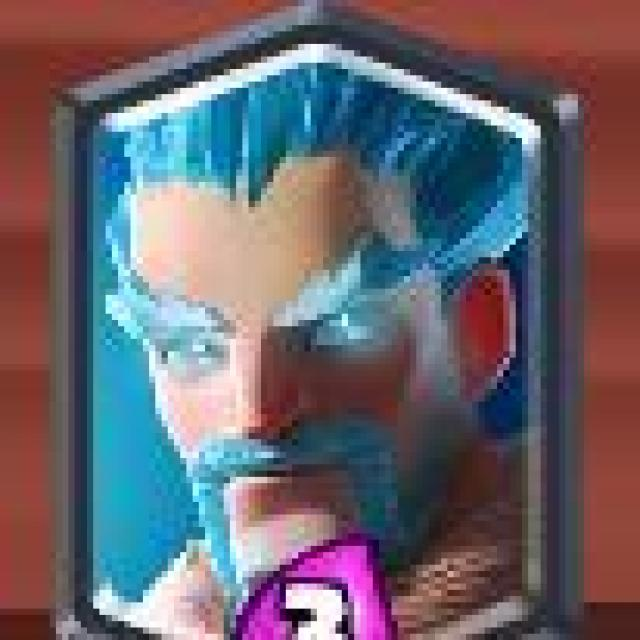Ice_Wizard: (64, 9, 556, 640)
